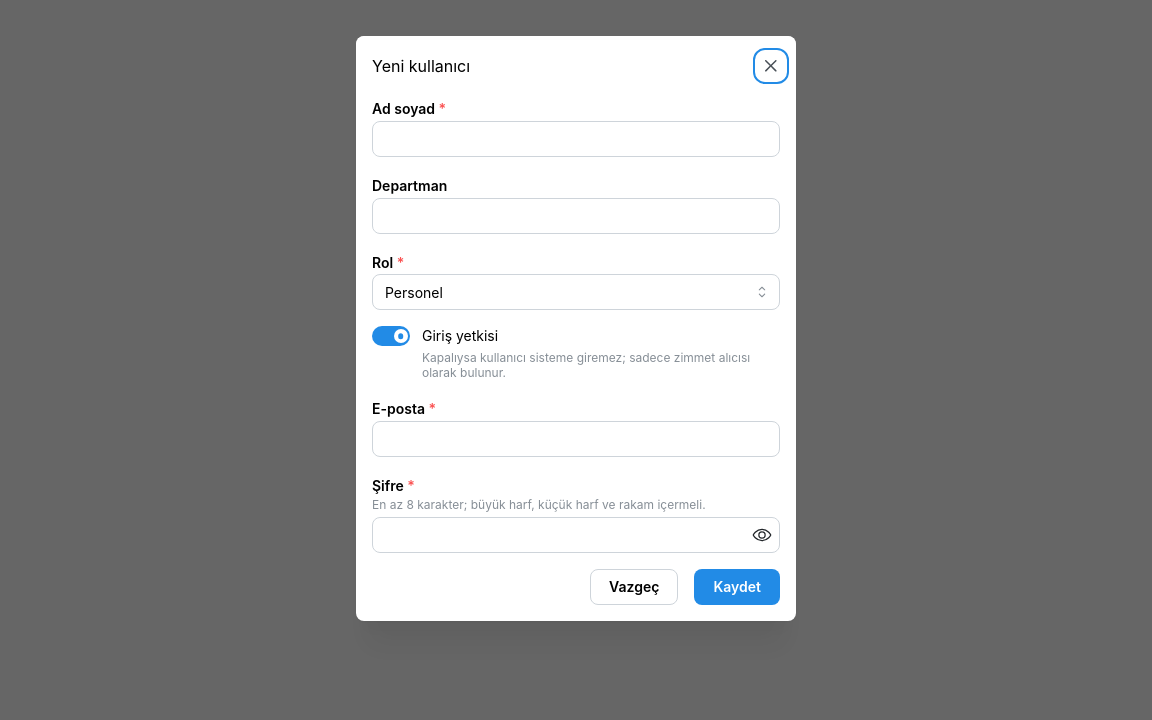
UserFormModal › hides email and password when login is disabled
The image size is (1152, 720).
Expected: the field labelled "E-posta *" is shown, [372,421,780,457]
Expected: the password field labelled "Şifre *" is shown, [373,518,779,552]
Click the switch labelled "Giriş yetkisi": coordinates (576, 353) [372,326,780,380]
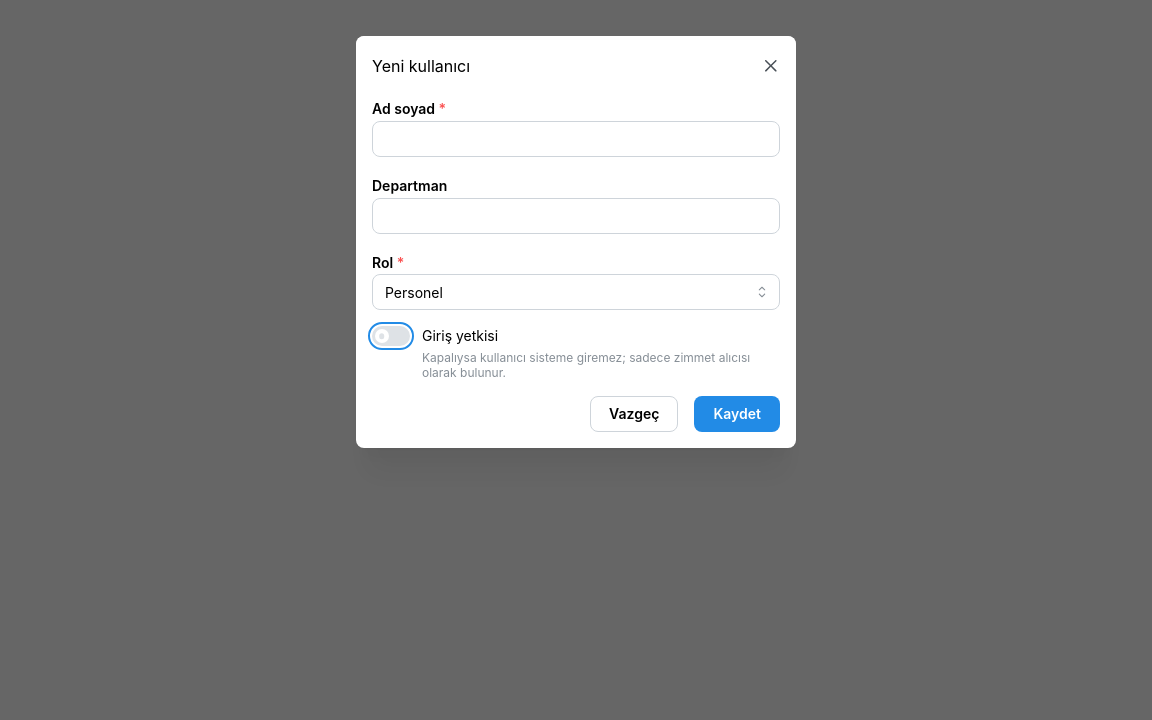
Expected: the label labelled "E-posta" is gone
Expected: the label labelled "Şifre" is gone
